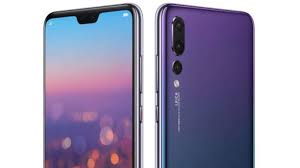huawei: (39, 3, 145, 168), (153, 3, 259, 168)
